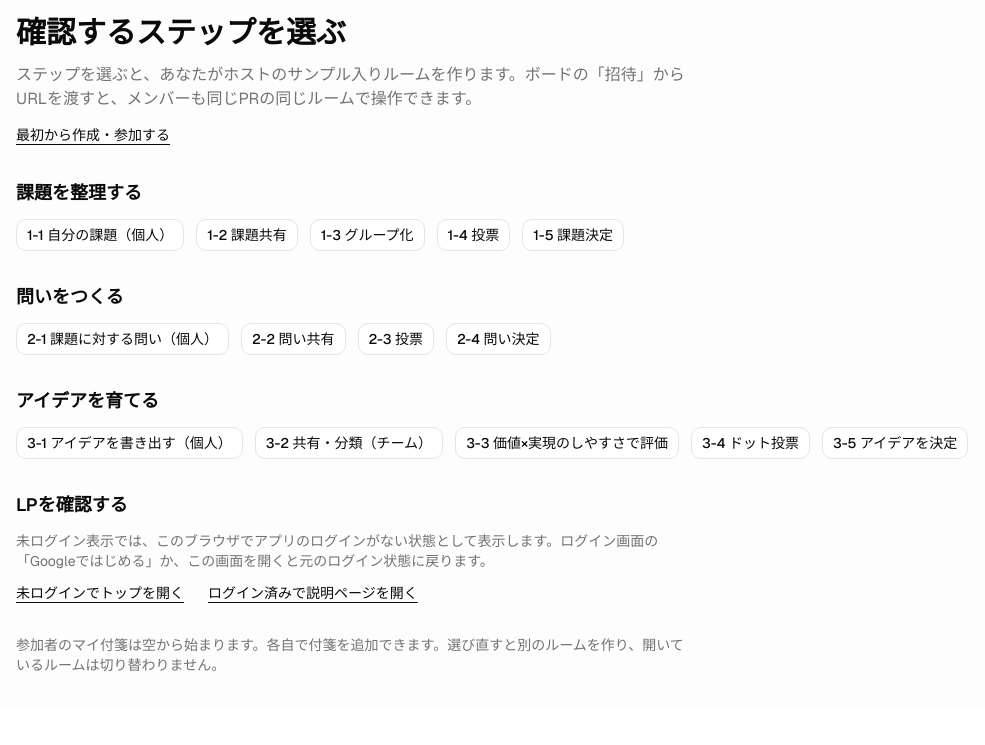
Test: 通信エラーを日本語で案内してステップ選択を再開する
The image size is (985, 745).
Step 1. Click the button "1-1 自分の課題（個人）" → {"x": 100, "y": 235}, box [16,219,184,251]
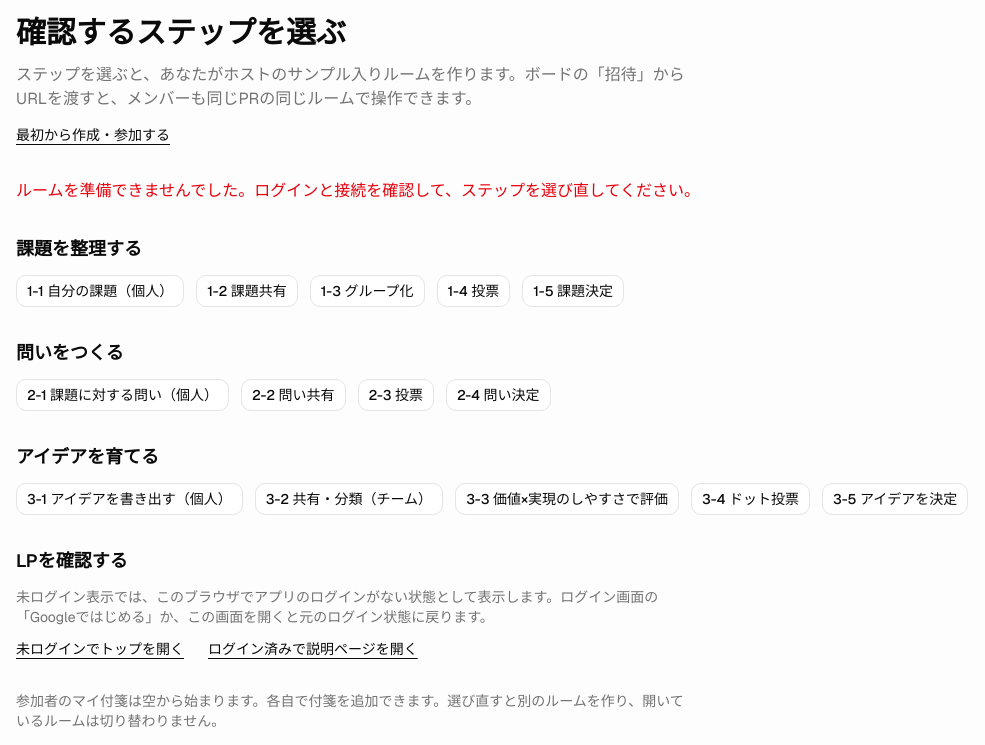
Expected: the button "1-1 自分の課題（個人）" is enabled, [16,275,184,307]
Expected: the message shows "ルームを準備できませんでした", [16,180,700,201]
